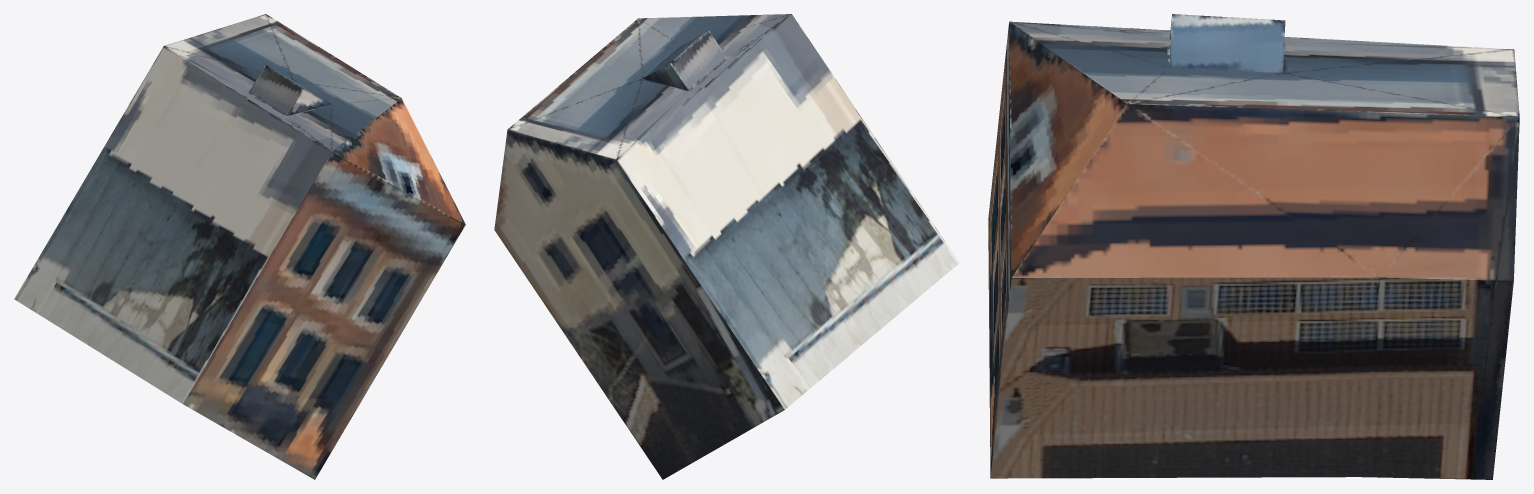
3 views of the same model, side by side, from view 1: azimuth 30°, elevation 25°; view 2: azimuth 150°, elevation 25°; view 3: azimuth 270°, elevation 25° (orthographic). The views are drawn at different scales.
Visible parts, largest first — view 1: BAG_0599100000670784 (×6); view 2: BAG_0599100000670784 (×5); view 3: BAG_0599100000670784 (×4).
Boxes of the visible parts, box(x1,y1,x2,y2) form: BAG_0599100000670784 (×6): box(14, 14, 465, 479); BAG_0599100000670784 (×5): box(494, 14, 959, 479); BAG_0599100000670784 (×4): box(988, 14, 1519, 479).
Bounding box in the file's own units: 10.15 × 11.44 × 10.77.
1 material, 1 textured.
